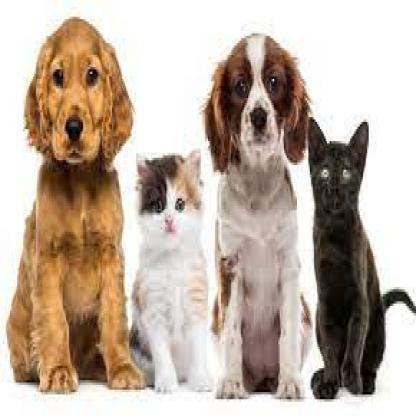dog: (15, 16, 133, 402), (204, 6, 312, 408)
